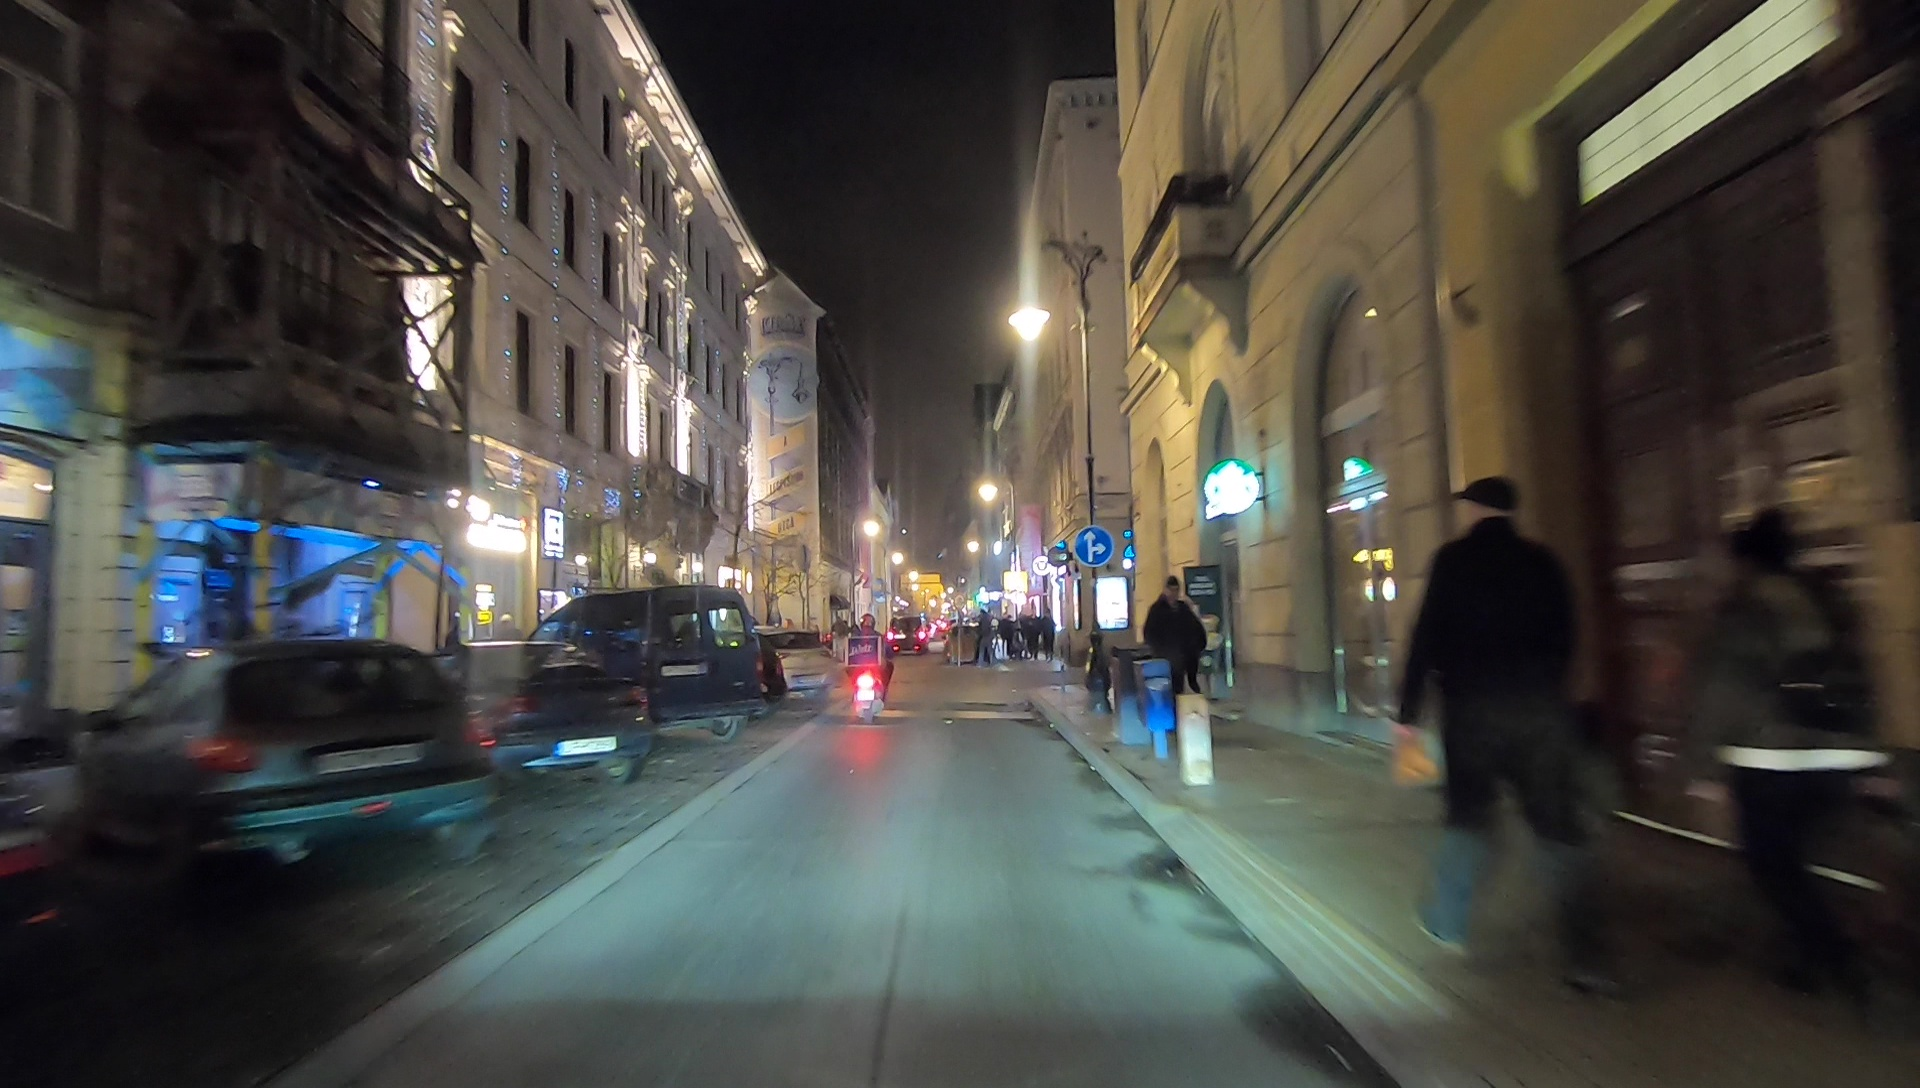person: (1404, 480, 1612, 978), (1667, 487, 1873, 967), (1151, 574, 1204, 730), (973, 609, 994, 668), (1041, 607, 1057, 663)
